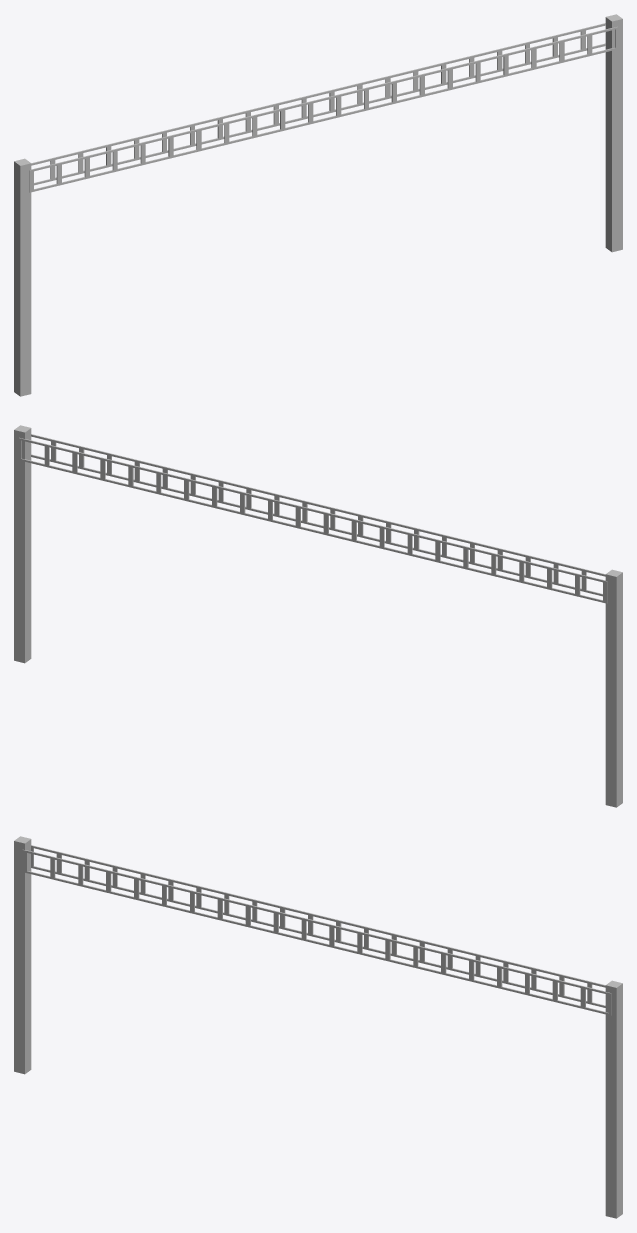
Rendered from OverheadLines.FBX.
3 renders of one model, top to bottom at view 1: azimuth 30°, elevation 25°; view 2: azimuth 150°, elevation 25°; view 3: azimuth 330°, elevation 25°, orthographic.
Visible parts, largest first — view 1: OverheadLine; view 2: OverheadLine; view 3: OverheadLine.
Part boxes in pixels (bbox=[...]): OverheadLine: bbox=[14, 14, 622, 396]; OverheadLine: bbox=[14, 425, 622, 807]; OverheadLine: bbox=[14, 836, 622, 1218].
Size of the model in its own units: 37017 by 769 by 13547.
1 material, 1 textured.
